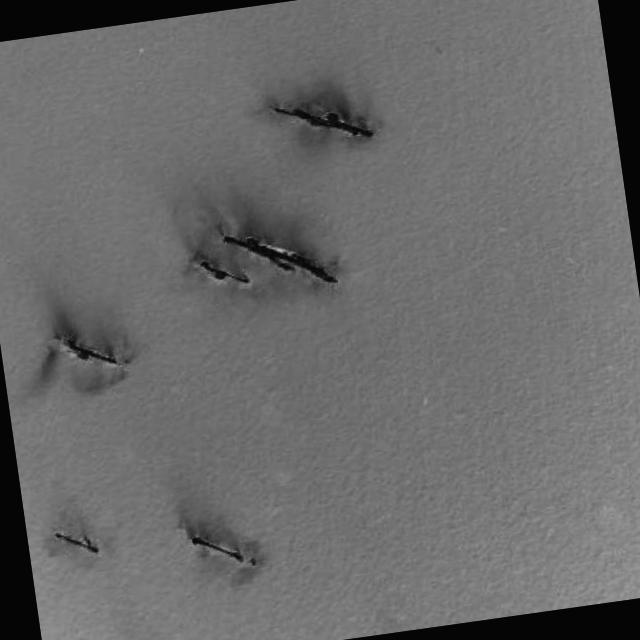crack: (222, 222, 330, 292), (288, 99, 369, 146), (58, 334, 125, 375), (196, 533, 248, 568), (51, 525, 102, 559), (195, 259, 240, 291)
